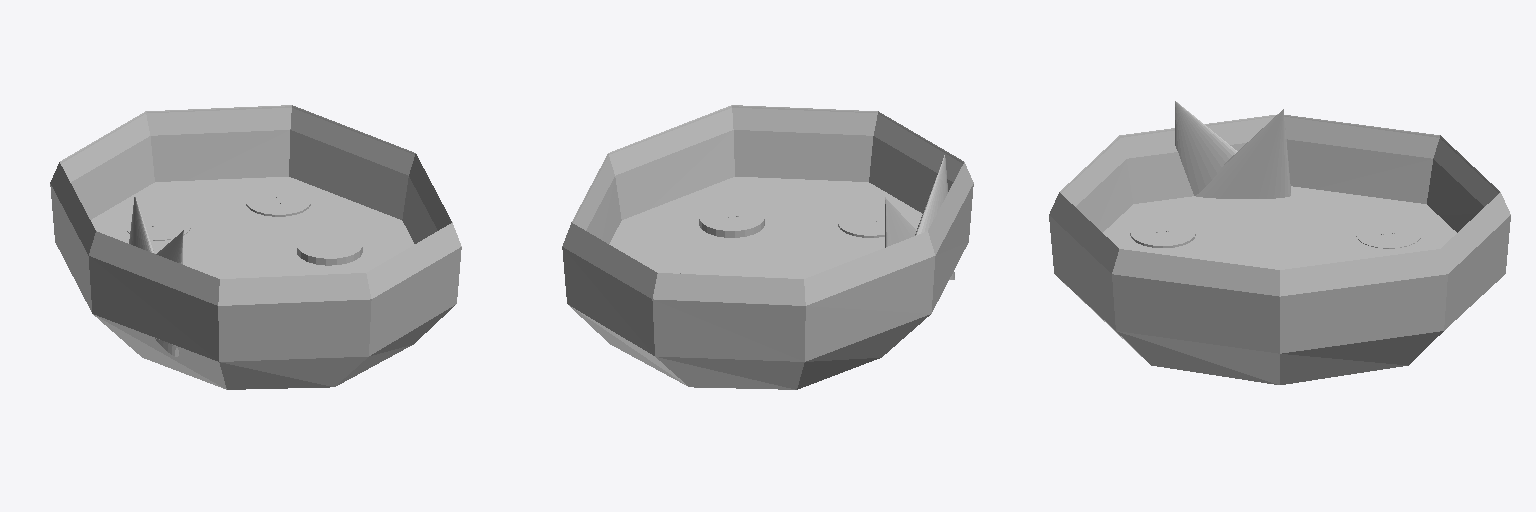
File: KUE CARANG GESING.obj
3 renders of one model, left to right at view 1: azimuth 30°, elevation 25°; view 2: azimuth 150°, elevation 25°; view 3: azimuth 270°, elevation 25°, orthographic.
Parts seen in each view (by area): view 1: Cube, Cylinder, Cylinder.002, Cylinder.013_Cylinder.015, Cylinder.001_Cylinder.007, Cone, Cone.001; view 2: Cube, Cylinder, Cylinder.002, Cylinder.009_Cylinder.011, Cone.001, Cone; view 3: Cube, Cylinder, Cone, Cone.001, Cylinder.009_Cylinder.011, Cylinder.001_Cylinder.007.
Boxes of the visible parts, box(x1,y1,x2,y2) form: Cube: box(50, 105, 461, 389); Cylinder: box(91, 177, 414, 278); Cylinder.002: box(297, 231, 362, 265); Cylinder.013_Cylinder.015: box(246, 187, 310, 216); Cylinder.001_Cylinder.007: box(125, 212, 190, 240); Cone: box(129, 197, 154, 253); Cone.001: box(155, 230, 183, 356); Cube: box(562, 105, 973, 389); Cylinder: box(609, 177, 922, 278); Cylinder.002: box(699, 203, 764, 237); Cylinder.009_Cylinder.011: box(838, 208, 884, 237); Cone.001: box(915, 155, 954, 279); Cone: box(885, 197, 915, 247); Cube: box(1049, 114, 1510, 384); Cylinder: box(1103, 186, 1456, 269); Cone: box(1196, 109, 1290, 198); Cone.001: box(1175, 101, 1237, 195); Cylinder.009_Cylinder.011: box(1130, 218, 1195, 247); Cylinder.001_Cylinder.007: box(1356, 220, 1421, 248).
Size of the model in its own units: 2.7 by 1.46 by 3.22.